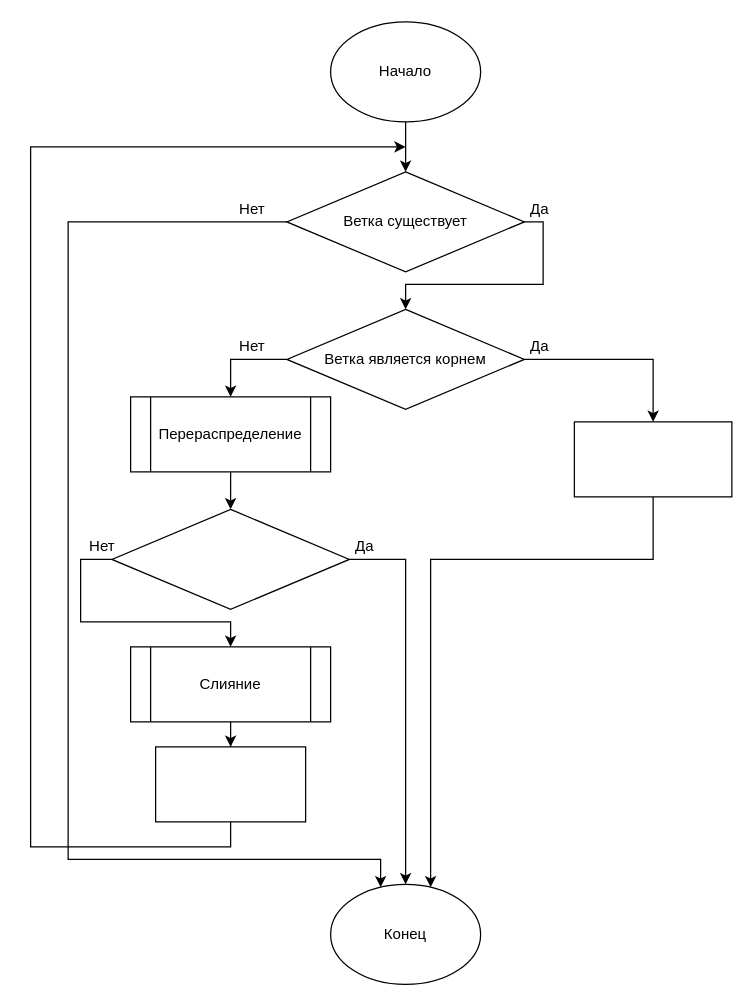
Image size: 754x1006. Some labels were removed from this diagram. Each missing label, with the box of its shape:
Корнем сделать первое слево поддерво: (573, 421, 732, 497)
Перераспределение удалось: (111, 508, 349, 609)
Переход к родителю: (154, 746, 306, 822)
